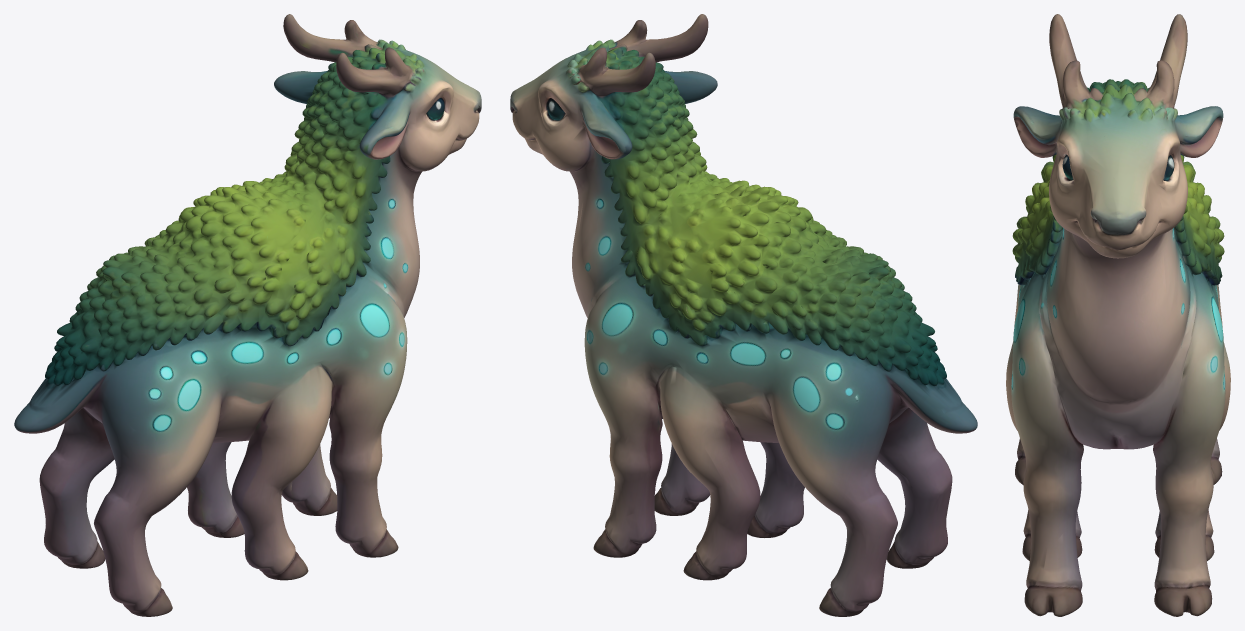
File: grazer.glb
3 renders of one model, left to right at view 1: azimuth 30°, elevation 25°; view 2: azimuth 150°, elevation 25°; view 3: azimuth 270°, elevation 25°, orthographic. The views are drawn at different scales.
Parts seen in each view (by area): view 1: node_0; view 2: node_0; view 3: node_0.
Boxes of the visible parts, x1,y1,x2,y2 form: node_0: (14, 14, 481, 616); node_0: (510, 14, 977, 616); node_0: (1006, 14, 1230, 616).
Bounding box in the file's own units: 0.9685 × 1.01 × 0.3544.
1 material, 1 textured.
